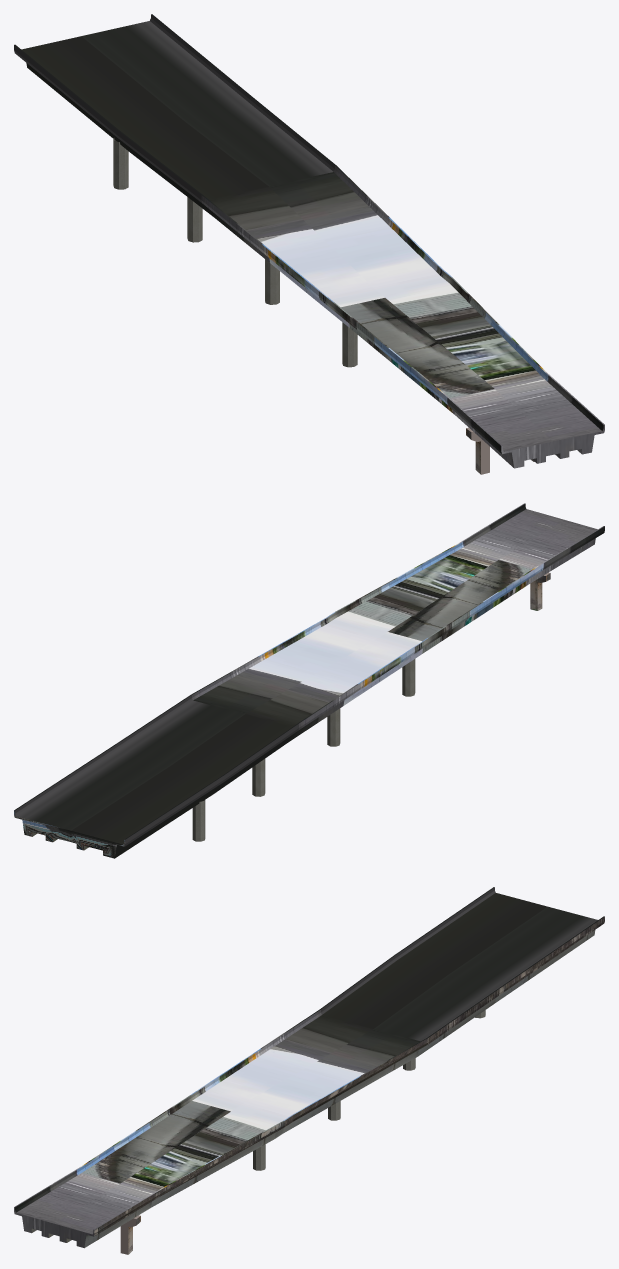
The model's file is highway_2.fbx.
3 renders of one model, top to bottom at view 1: azimuth 30°, elevation 25°; view 2: azimuth 150°, elevation 25°; view 3: azimuth 330°, elevation 25°, orthographic. The views are drawn at different scales.
Visible parts, largest first — view 1: highway, 圓形.002, 圓形.004, 立方體.025; view 2: highway, 圓形.002, 圓形.004; view 3: highway, 圓形.002.
Part boxes in pixels (<box>): highway: <box>14,14,604,468</box>; 圓形.002: <box>187,197,357,367</box>; 圓形.004: <box>113,138,128,189</box>; 立方體.025: <box>466,427,534,474</box>; highway: <box>14,503,604,858</box>; 圓形.002: <box>252,659,415,796</box>; 圓形.004: <box>192,798,205,841</box>; highway: <box>14,887,604,1248</box>; 圓形.002: <box>253,1058,415,1170</box>.
Bounding box in the file's own units: 1930 × 769 × 10063.
4 materials, 4 textured.
